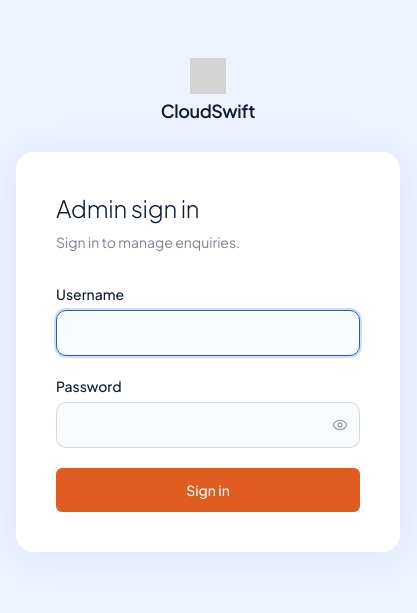
it: AdminLoginPage › shows an error message when the request itself fails
The image size is (417, 613).
Type "admin" into the field labelled "Username".
click(208, 333); type("admin")  # box [56,310,360,356]
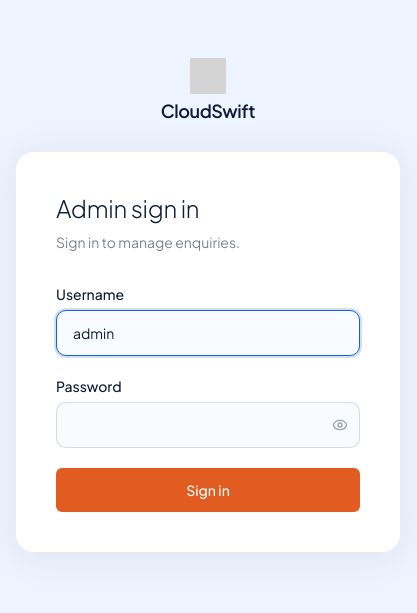
Type "correct" into the password field labelled "Password".
click(208, 425); type("correct")  # box [56,402,360,448]
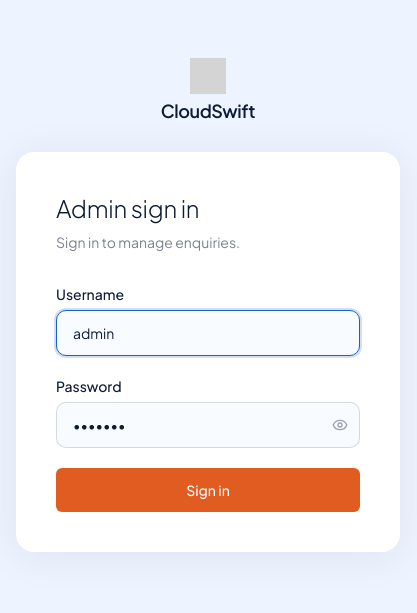
Submit the form "Sign in", box [56,284,360,512]
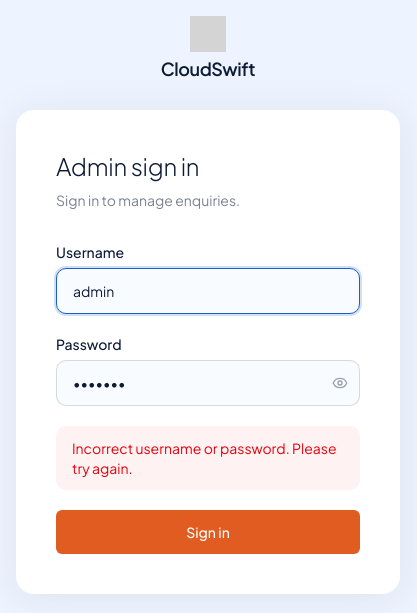
Check: the text "Incorrect username or password. Please try again." is shown, box [56,426,360,490]
